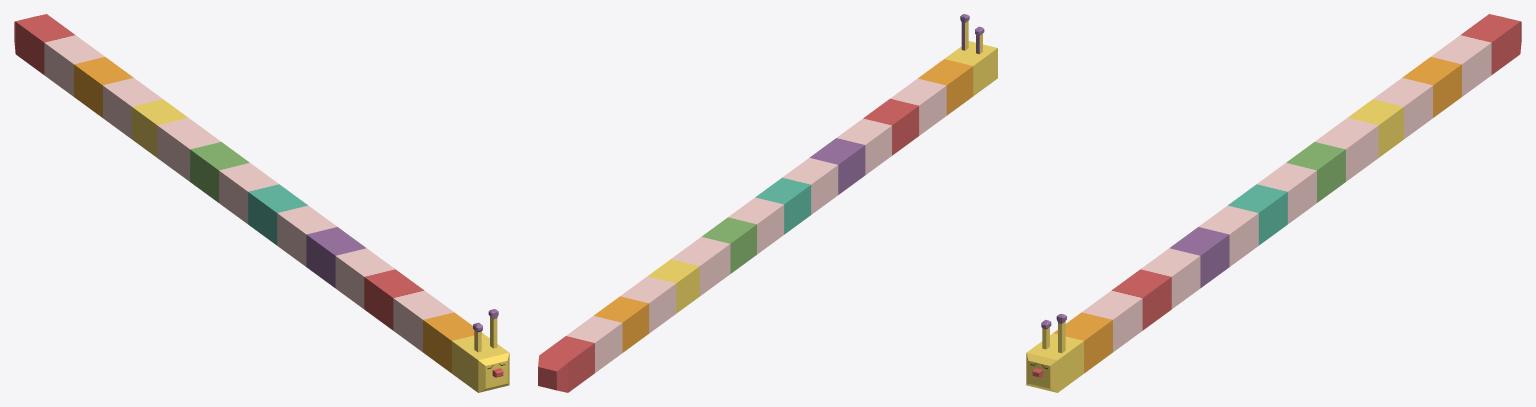
The model's file is gayworm.glb.
3 renders of one model, left to right at view 1: azimuth 30°, elevation 25°; view 2: azimuth 150°, elevation 25°; view 3: azimuth 330°, elevation 25°, orthographic. The views are drawn at different scales.
Parts seen in each view (by area): view 1: Cube; view 2: Cube; view 3: Cube.
Part boxes in pixels (x1=…): Cube: x1=14, y1=14, x2=509, y2=392; Cube: x1=538, y1=14, x2=997, y2=392; Cube: x1=1026, y1=14, x2=1521, y2=392.
Bounding box in the file's own units: 13.9 × 29.35 × 366.
Materials: 1 (1 with a texture image).
